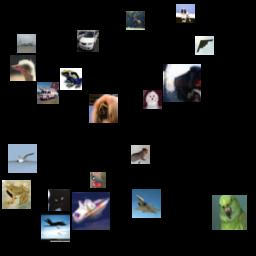airplane: (132, 189, 161, 218), (41, 213, 70, 242), (17, 34, 36, 53), (195, 36, 214, 55)
automobile: (77, 30, 99, 52)
bird: (212, 195, 247, 230), (8, 144, 37, 173), (10, 55, 36, 81), (90, 172, 106, 188)
cat: (48, 189, 70, 211), (131, 145, 150, 164)
deer: (126, 11, 145, 30)
dog: (89, 94, 118, 123), (143, 90, 162, 109), (176, 4, 195, 23)
frog: (2, 180, 31, 209), (60, 68, 82, 90)
ship: (72, 192, 110, 230)
truck: (163, 64, 201, 102), (37, 82, 59, 104)
